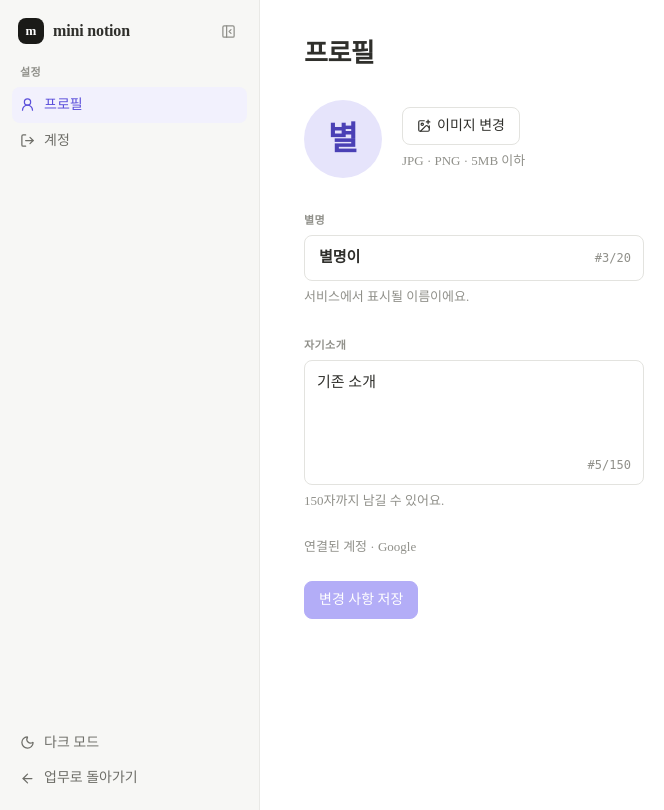
Test case: 자기소개 수정·비우기 (US2) › 별명만 수정해 저장하면 자기소개는 그대로 유지된다 (FR-014)
Expected: the text box named "자기소개" holds "기존 소개", [317, 370, 631, 446]
Replace the text in the field named "별명" with "새별명" at (451, 258), box [317, 245, 585, 271]
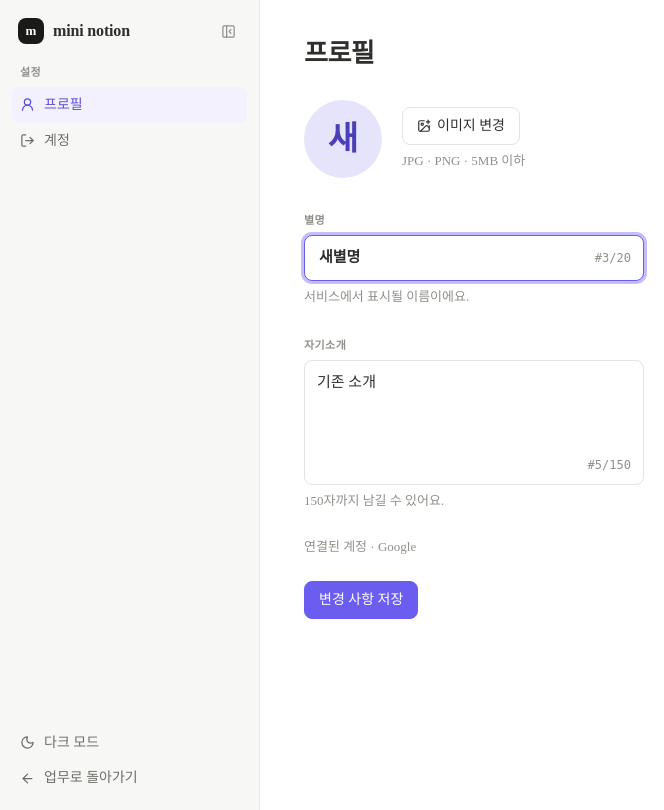
Click the button "변경 사항 저장" at (361, 600), box [304, 581, 418, 619]
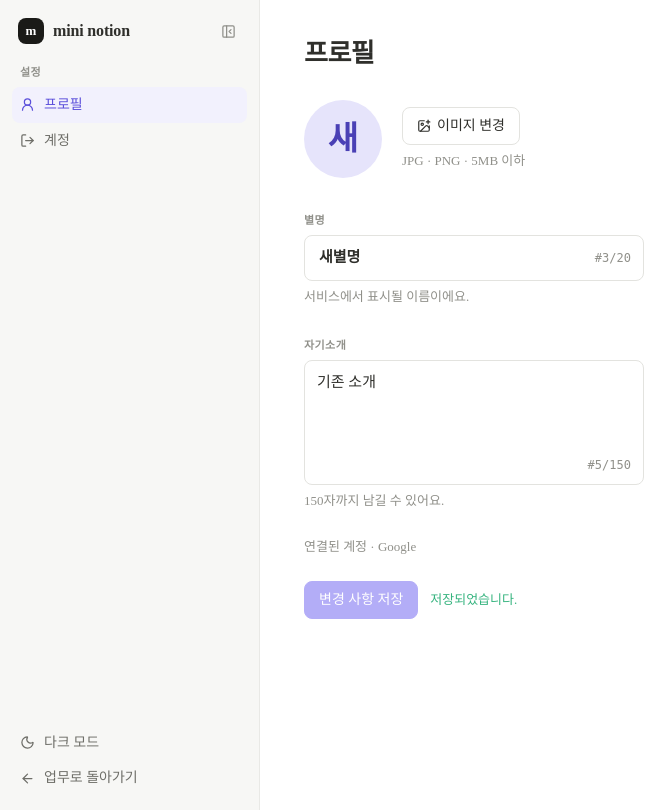
Now the text "저장되었습니다." is shown, box [430, 590, 517, 610]
